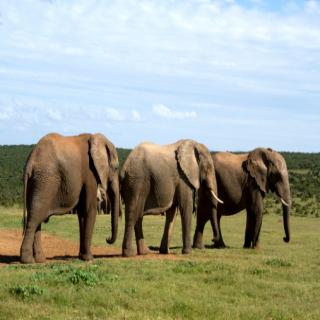Elephant: (18, 128, 121, 267), (119, 137, 226, 260), (217, 148, 297, 246)
